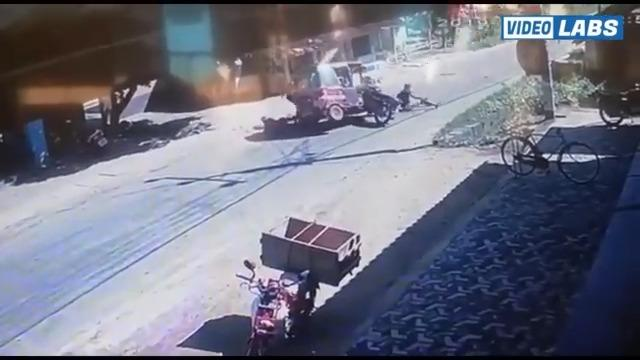accident: (283, 52, 444, 135)
